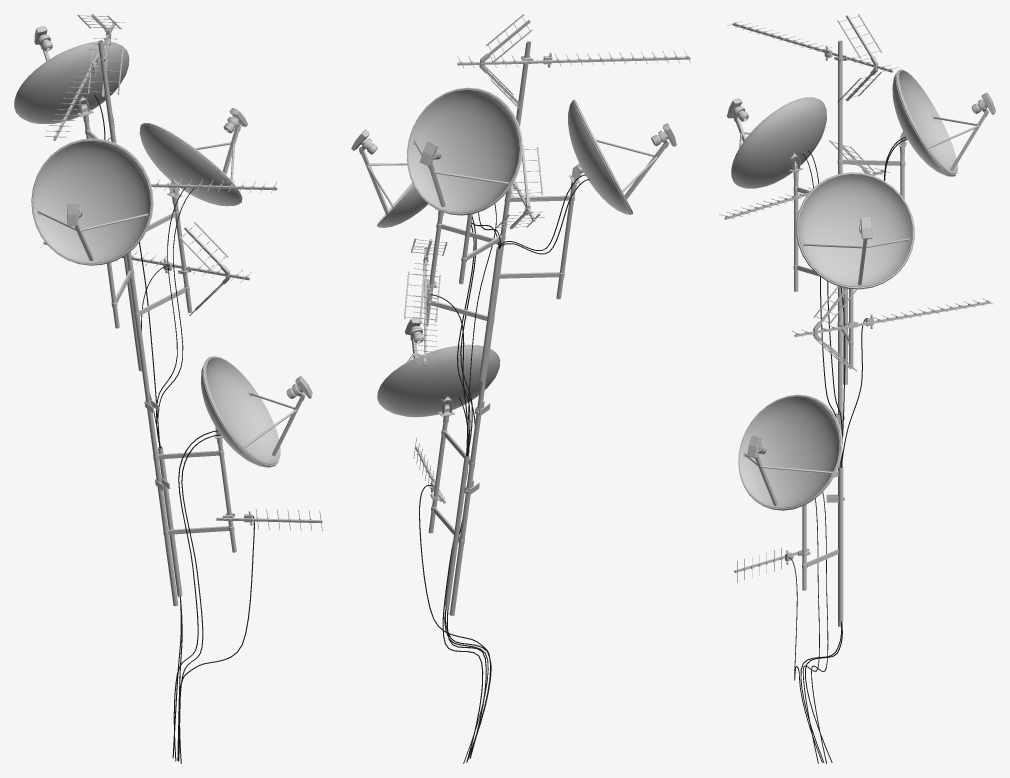
The model's file is KB3D_DMZ_Antenna_B.fbx.
3 views of the same model, side by side, from view 1: azimuth 30°, elevation 25°; view 2: azimuth 150°, elevation 25°; view 3: azimuth 270°, elevation 25° (orthographic). The views are drawn at different scales.
Visible parts, largest first — view 1: KB3D_DMZ_Antenna_B_Main; view 2: KB3D_DMZ_Antenna_B_Main; view 3: KB3D_DMZ_Antenna_B_Main.
Part boxes in pixels (x1,y1,x2,y2): KB3D_DMZ_Antenna_B_Main: (14, 14, 322, 763); KB3D_DMZ_Antenna_B_Main: (351, 14, 690, 763); KB3D_DMZ_Antenna_B_Main: (719, 14, 995, 763).
Size of the model in its own units: 290 by 759 by 266.
